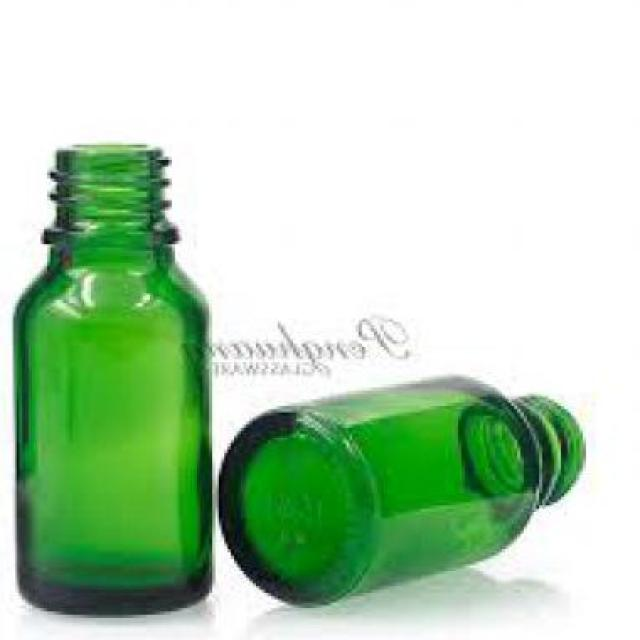kaca: (18, 145, 215, 615), (220, 372, 588, 602)
